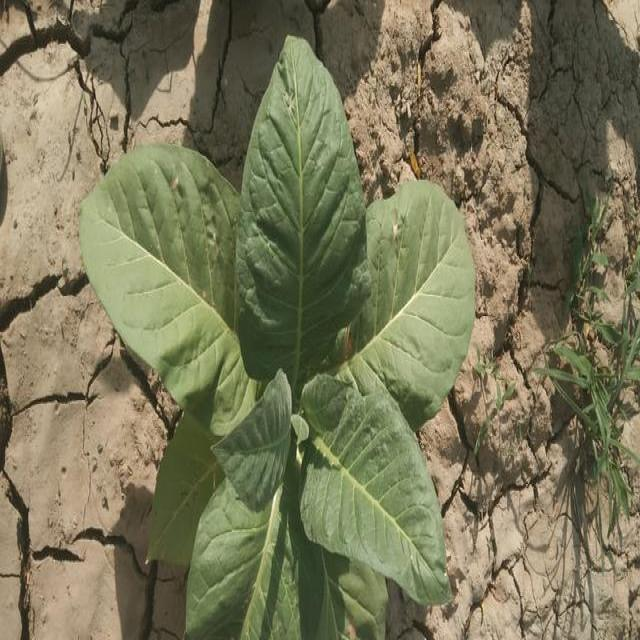crop: (78, 41, 471, 640)
